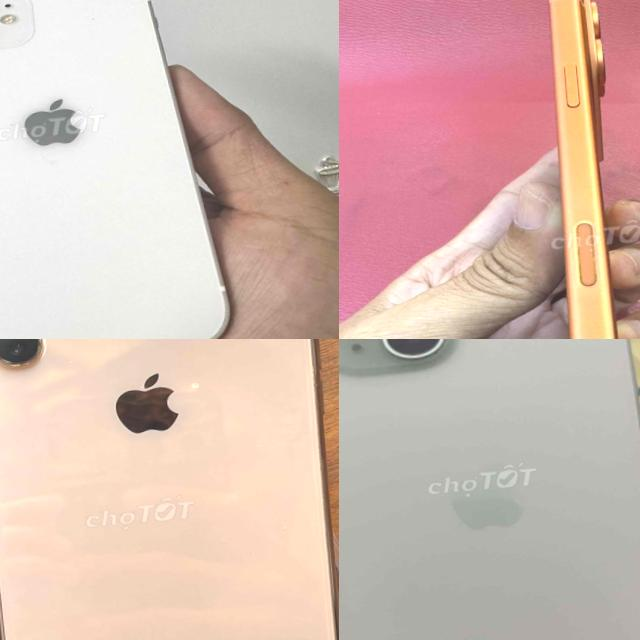gen_12_13: (0, 0, 269, 339)
gen_15: (339, 339, 640, 640)
gen_17: (520, 0, 640, 339)
gen_x_xs: (0, 339, 339, 640)
